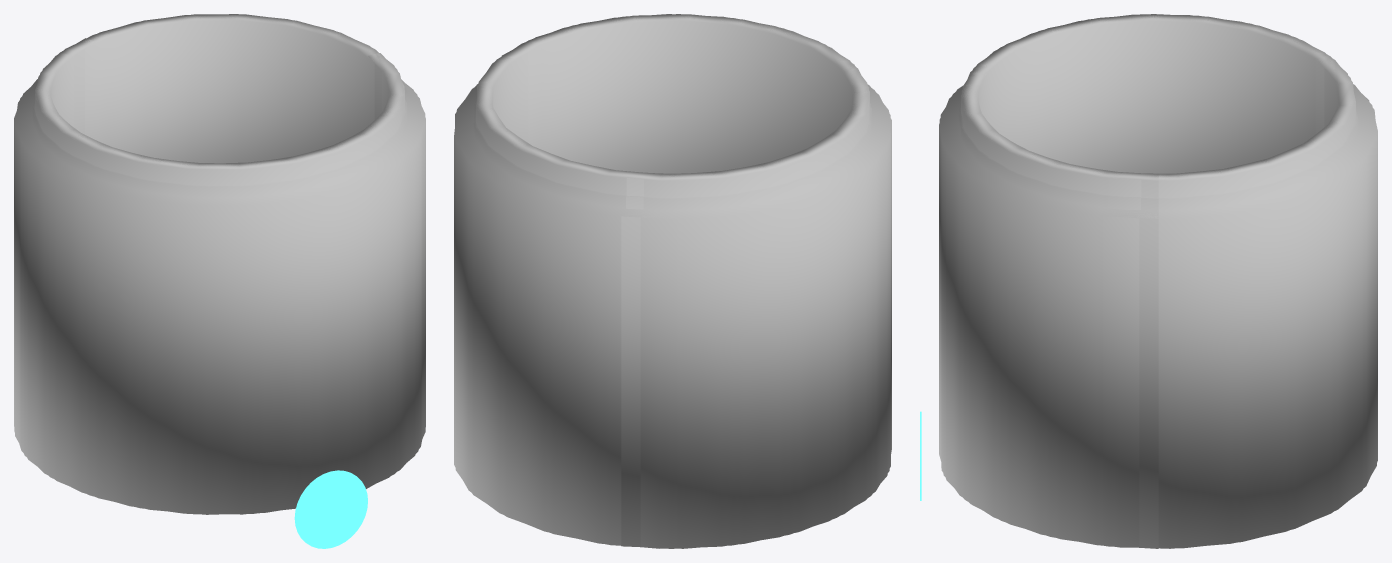
File: LOT134c_4b8582e3.glb
3 views of the same model, side by side, from view 1: azimuth 30°, elevation 25°; view 2: azimuth 150°, elevation 25°; view 3: azimuth 270°, elevation 25° (orthographic). The views are drawn at different scales.
Visible parts, largest first — view 1: item, profile_circle_h0.800_a270.0; view 2: item; view 3: item.
Part boxes in pixels (<box>): item: <box>14,14,425,514</box>; profile_circle_h0.800_a270.0: <box>294,470,367,548</box>; item: <box>454,14,891,548</box>; item: <box>939,14,1377,548</box>.
Size of the model in its own units: 1.47 by 1.48 by 1.54.
